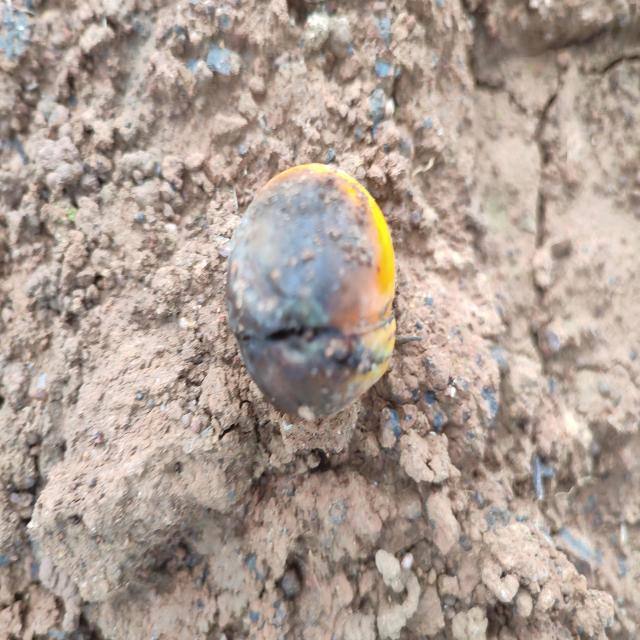damaged: (223, 163, 398, 425)
